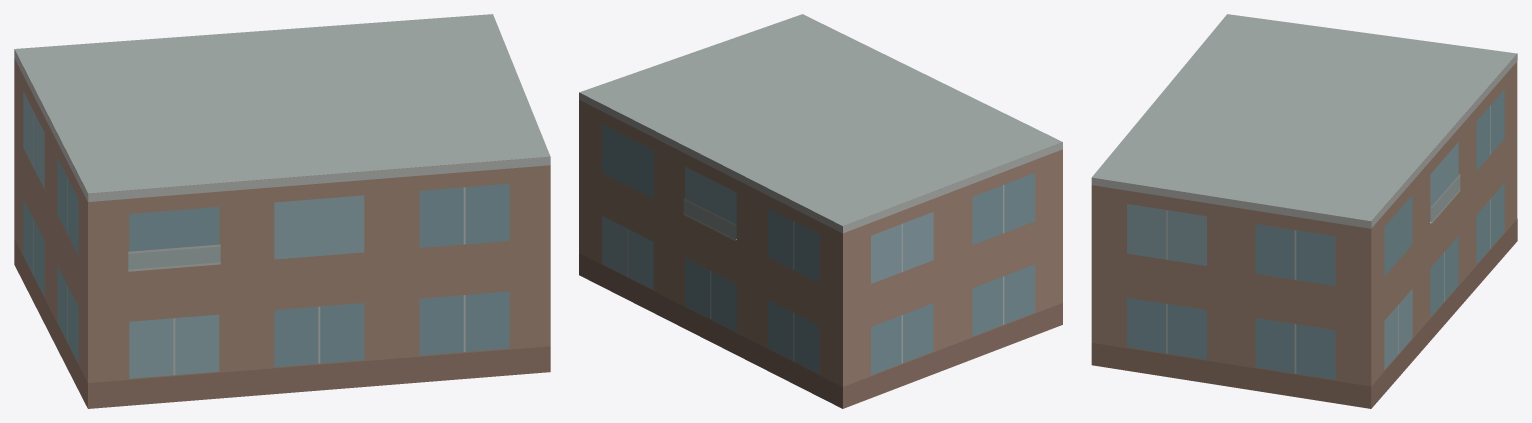
File: survey-upis-32888279.glb
The picture shows the model from 3 angles, left to right: view 1: azimuth 30°, elevation 25°; view 2: azimuth 150°, elevation 25°; view 3: azimuth 270°, elevation 25°; orthographic projection. The views are drawn at different scales.
Parts seen in each view (by area): view 1: survey-upis-32888279.tmp; view 2: survey-upis-32888279.tmp; view 3: survey-upis-32888279.tmp.
Part boxes in pixels (x1,y1,x2,y2): survey-upis-32888279.tmp: (14,14,550,408); survey-upis-32888279.tmp: (579,14,1062,408); survey-upis-32888279.tmp: (1091,14,1517,408).
Size of the model in its own units: 14.46 by 6.1 by 12.56.
